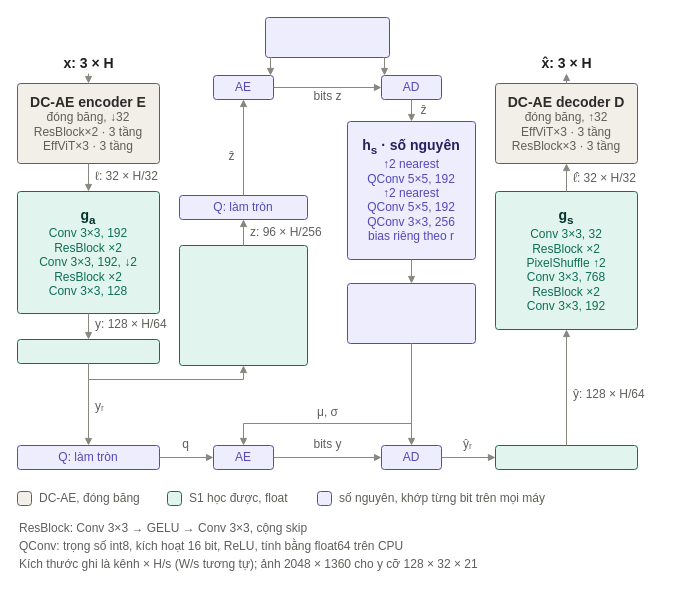
Some shapes in this 679 by 591 pixel diagram are drawn without their labels. Here are the shapes that lost their labels. From the top down, the box of each, then its label:
(264, 16, 390, 58): Prior phân rã 96 kênh, 65 bin
(178, 244, 308, 366): h a Conv 5×5, 96, ↓2 LeakyReLU Conv 5×5, 192, ↓2 LeakyReLU Conv 3×3, 192
(346, 282, 476, 344): Tham số entropy σ: 64 scale log μ: bước 1/16
(16, 338, 160, 364): × gain[r], 8 × 128
(494, 444, 638, 470): ÷ gain[r]
